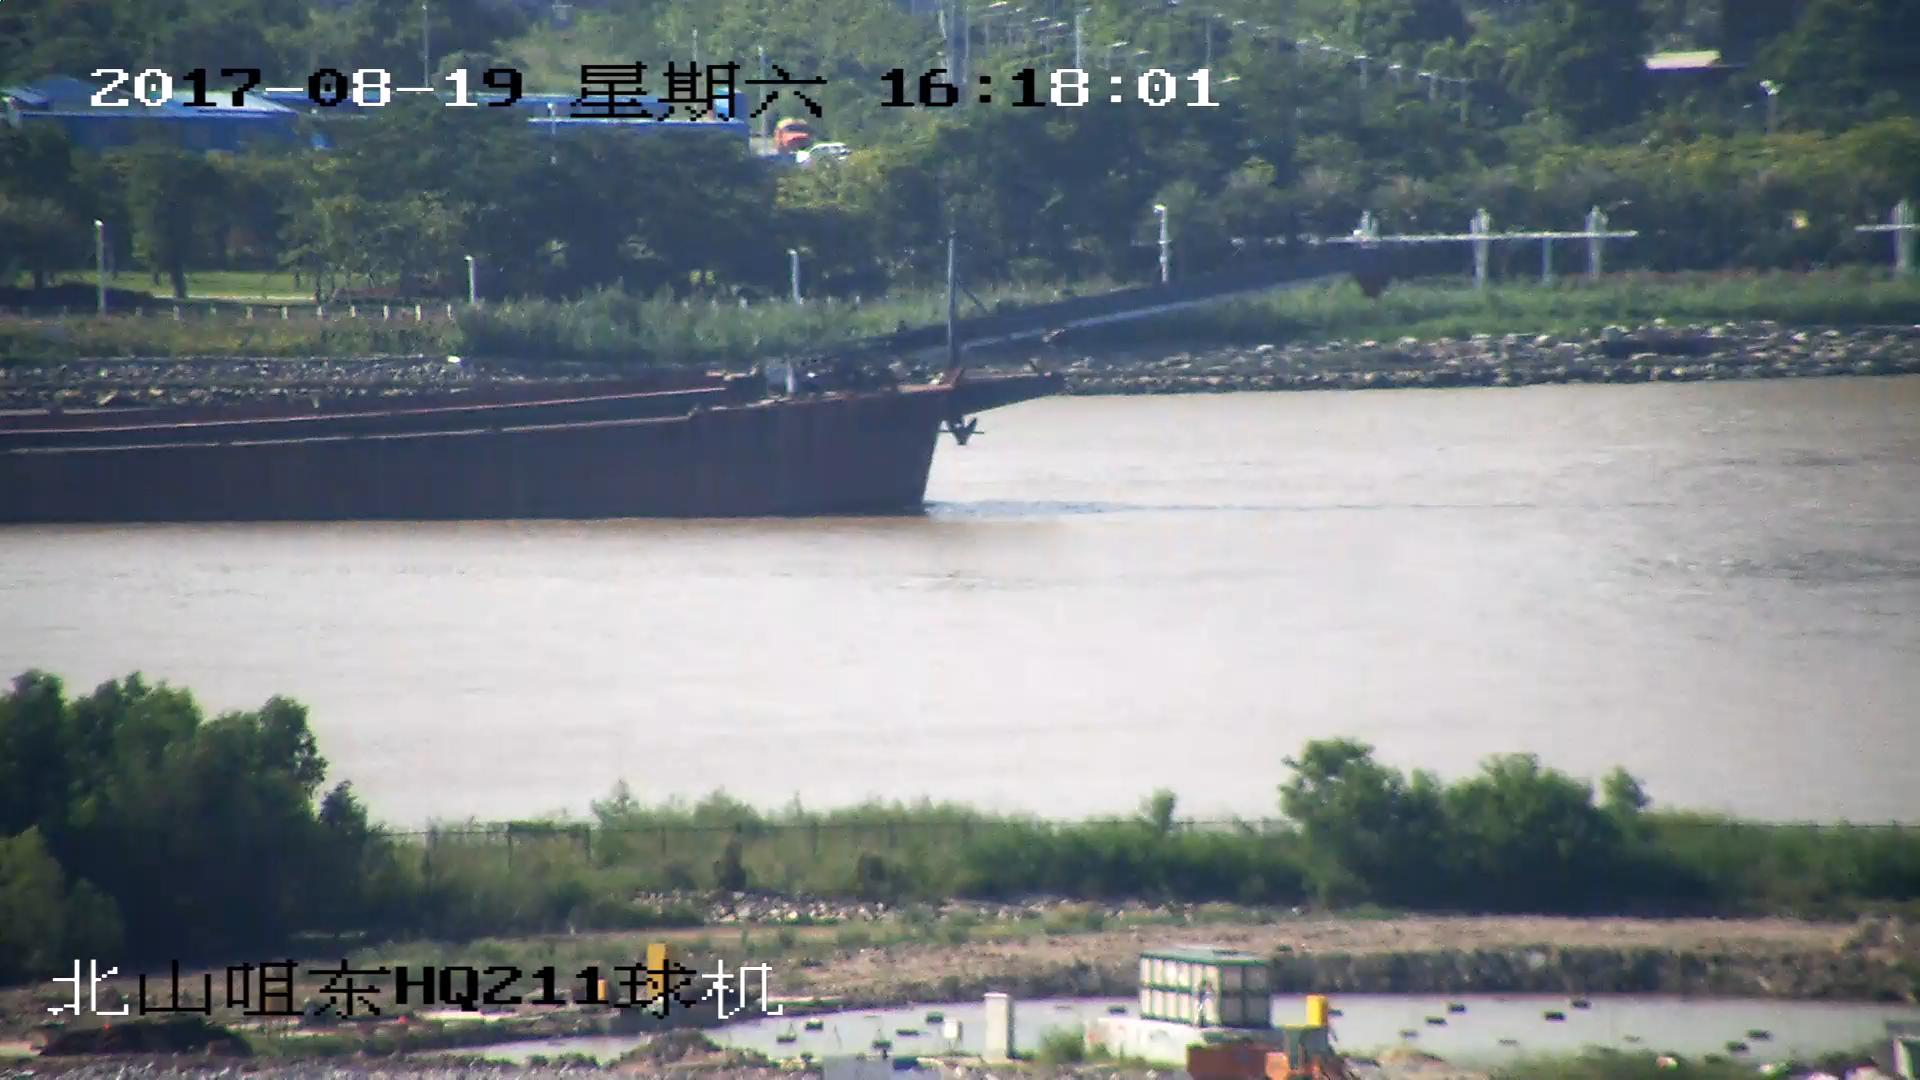Ship: (3, 247, 1383, 522)
